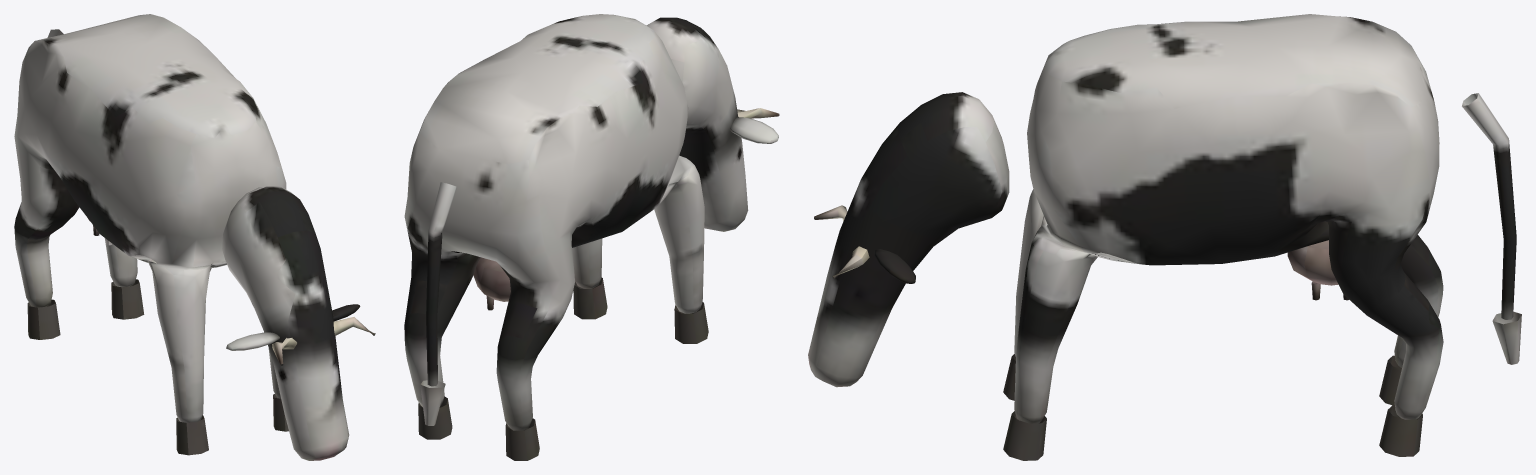
The model's file is cow-grazing.glb.
3 renders of one model, left to right at view 1: azimuth 30°, elevation 25°; view 2: azimuth 150°, elevation 25°; view 3: azimuth 270°, elevation 25°, orthographic. The views are drawn at different scales.
Visible parts, largest first — view 1: cow-grazing-body; view 2: cow-grazing-body; view 3: cow-grazing-body.
Part boxes in pixels (x1,y1,x2,y2): cow-grazing-body: [14, 14, 375, 460]; cow-grazing-body: [404, 14, 779, 460]; cow-grazing-body: [808, 14, 1521, 460].
Size of the model in its own units: 0.7275 by 1.38 by 2.32.
Materials: 1 (1 with a texture image).
